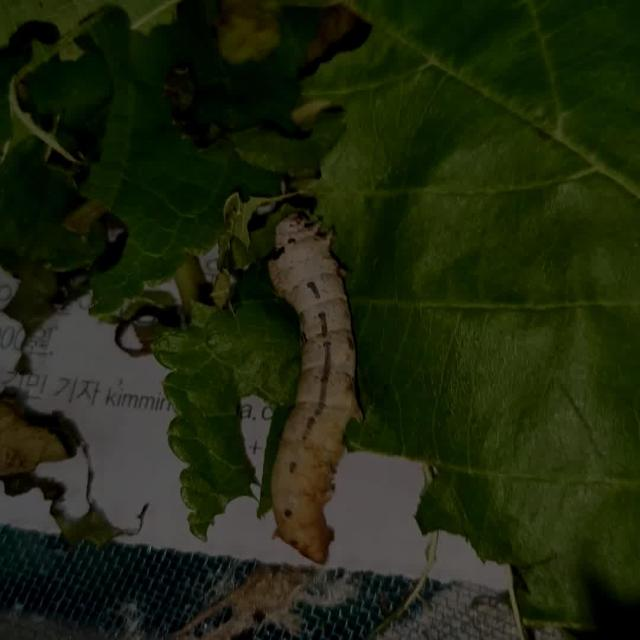Grasserie: (245, 204, 391, 577)
